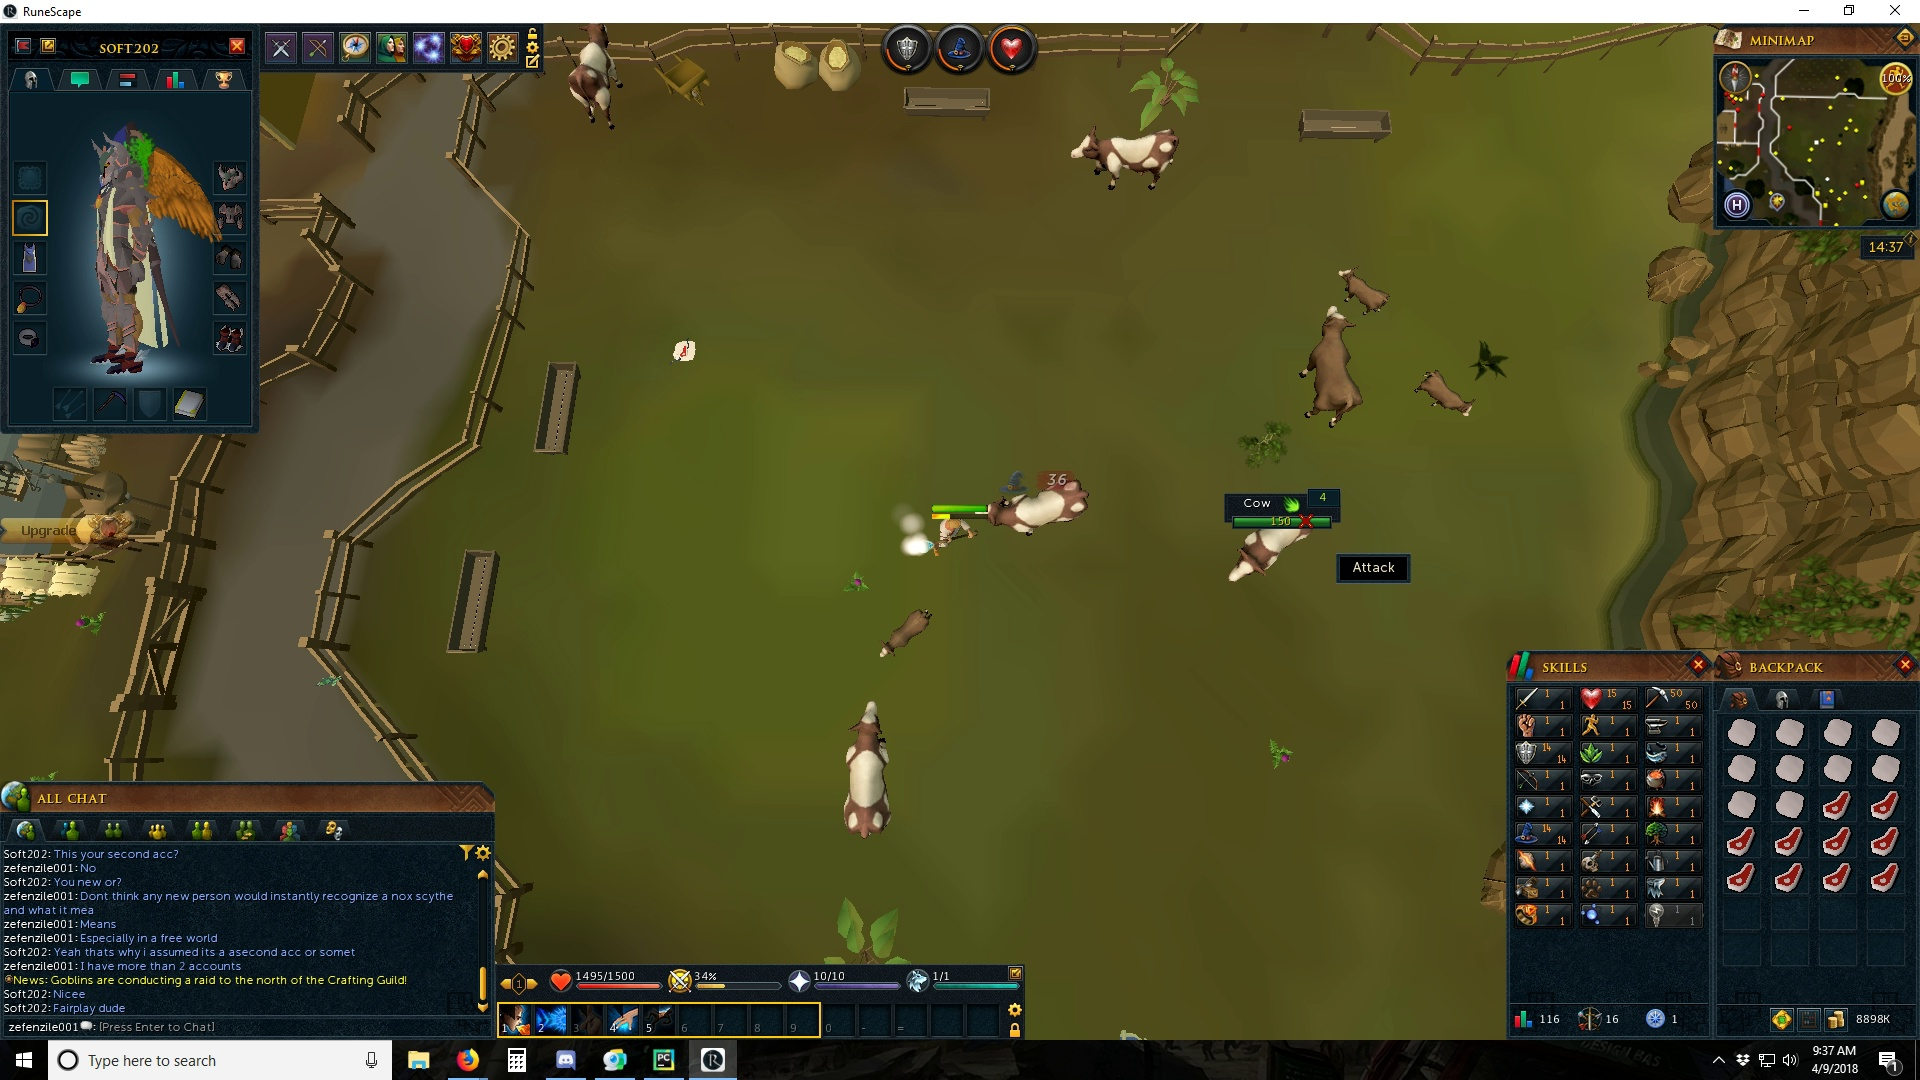calf: (874, 608, 938, 666), (1414, 368, 1480, 417), (1338, 265, 1393, 316)
cow: (1296, 309, 1361, 429), (1068, 127, 1180, 193), (839, 702, 891, 837), (975, 479, 1089, 537), (564, 24, 622, 136), (1222, 527, 1327, 585)
cow_drop: (670, 338, 702, 365)
